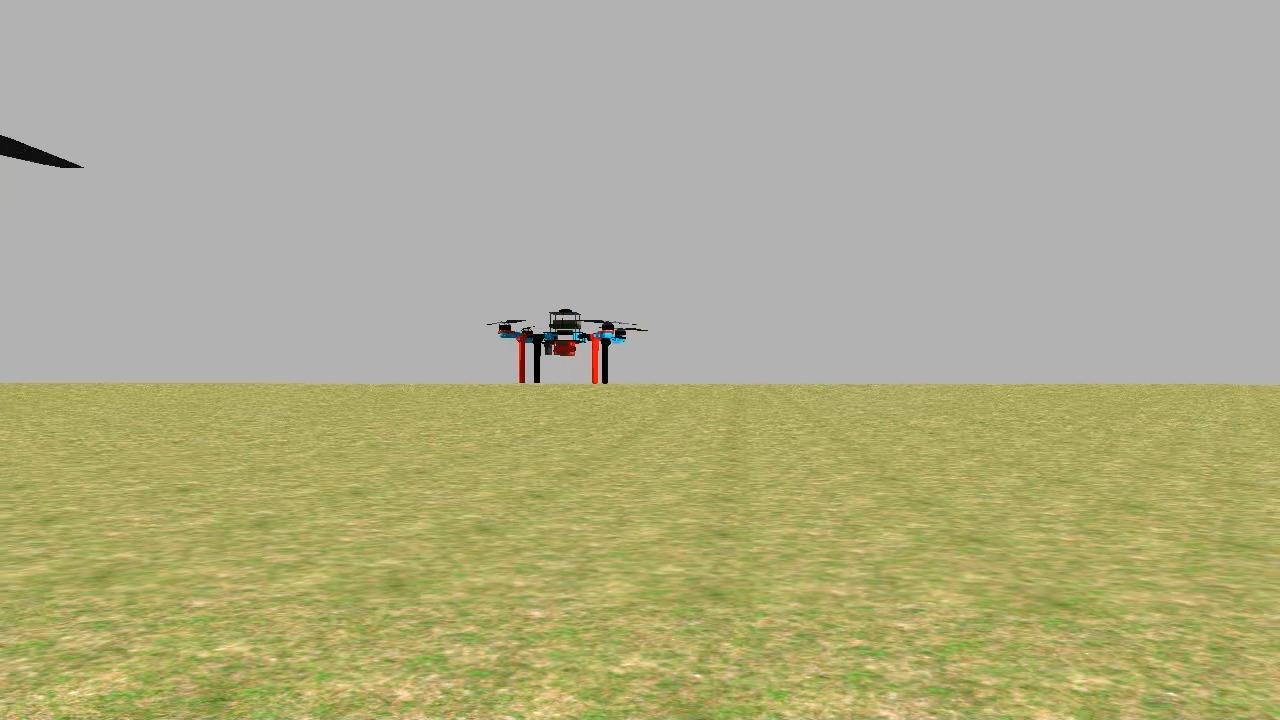UAV: (486, 301, 644, 386)
